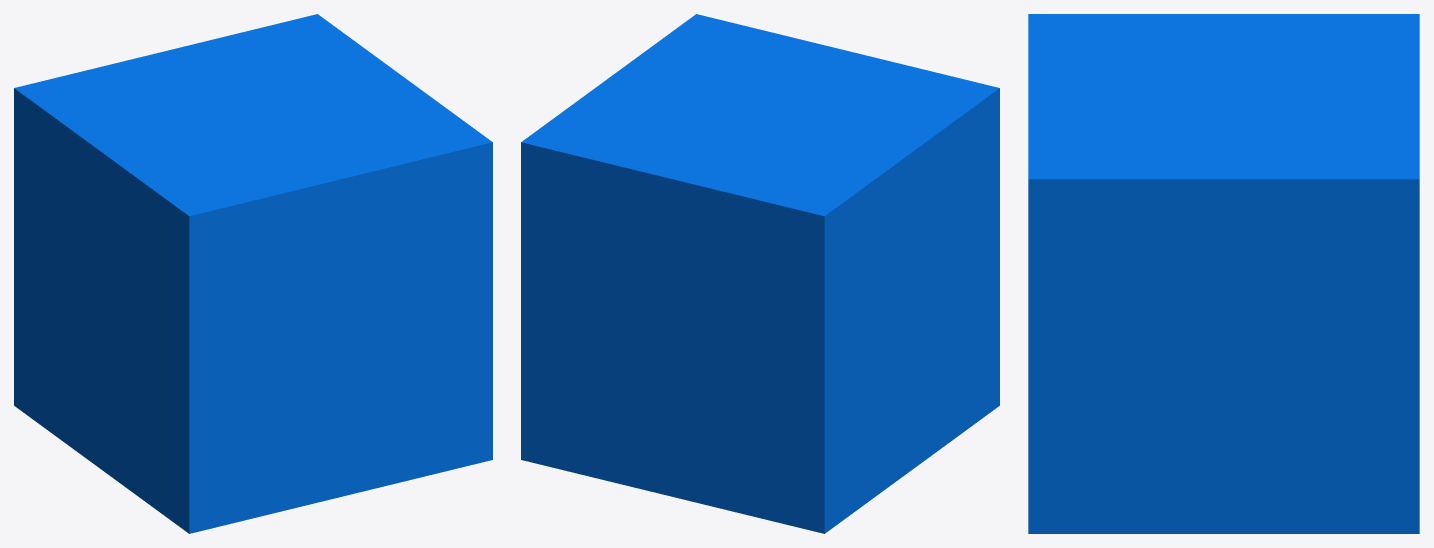
The model's file is c-scale.glb.
The picture shows the model from 3 angles, left to right: view 1: azimuth 30°, elevation 25°; view 2: azimuth 150°, elevation 25°; view 3: azimuth 270°, elevation 25°; orthographic projection. The views are drawn at different scales.
Parts seen in each view (by area): view 1: cube; view 2: cube; view 3: cube.
Boxes of the visible parts, x1,y1,x2,y2 form: cube: (14, 14, 492, 533); cube: (521, 14, 999, 533); cube: (1028, 14, 1419, 533).
Bounding box in the file's own units: 1 × 1.06 × 1.
Materials: 2 (2 with a texture image).
